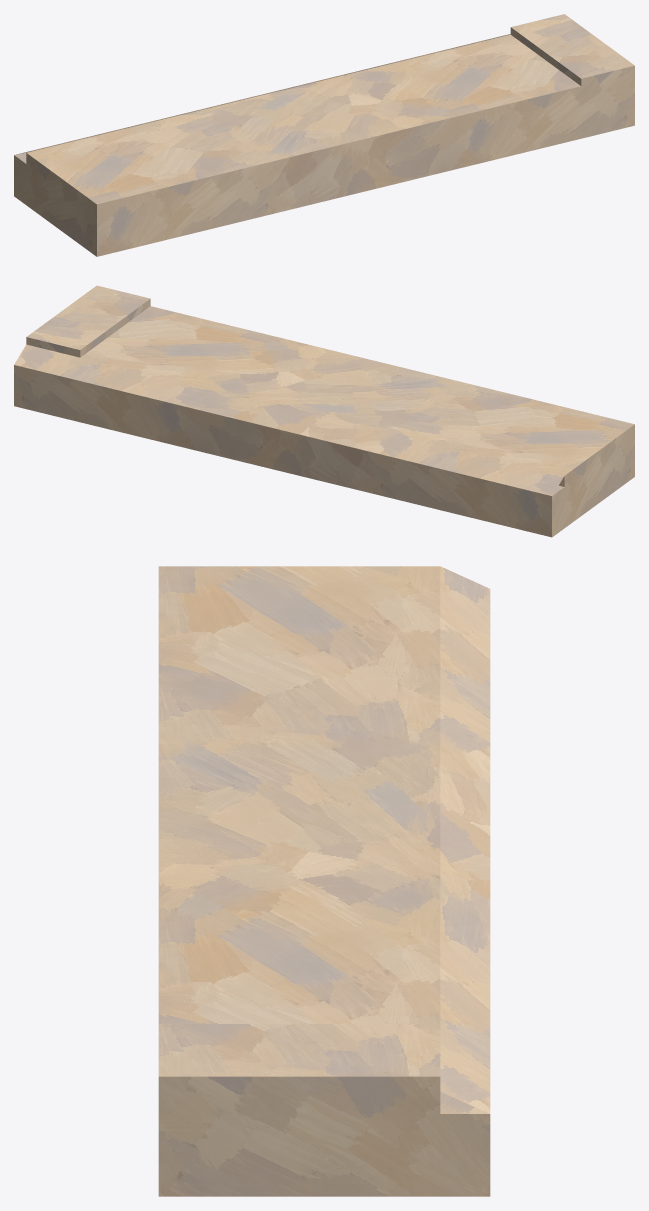
Rendered from pavement-end-yaw180.glb.
3 views of the same model, one above another, from view 1: azimuth 30°, elevation 25°; view 2: azimuth 150°, elevation 25°; view 3: azimuth 270°, elevation 25° (orthographic). The views are drawn at different scales.
Parts seen in each view (by area): view 1: pavement-end; view 2: pavement-end; view 3: pavement-end.
Part boxes in pixels (<box>): pavement-end: <box>14,14,634,256</box>; pavement-end: <box>14,285,634,537</box>; pavement-end: <box>158,566,490,1196</box>.
Size of the model in its own units: 1.5 by 0.16 by 0.4.
Materials: 1 (1 with a texture image).
